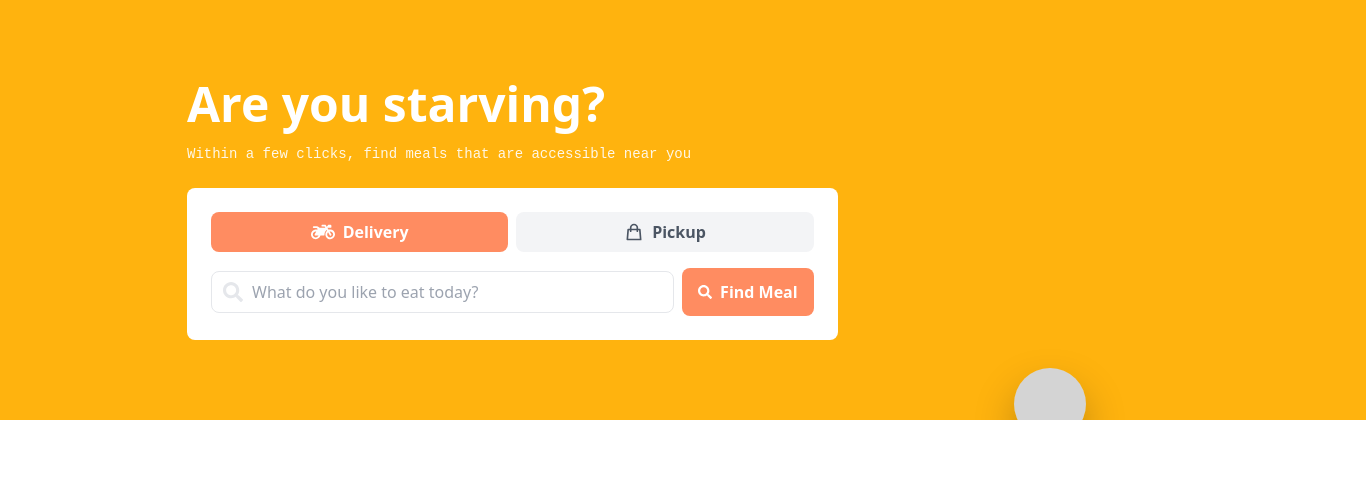
Test: Hero component › search interaction shows matching result
Type "pancake" into the field with placeholder "What do you like to eat today?" at coordinates (443, 292), box [211,271,674,313]
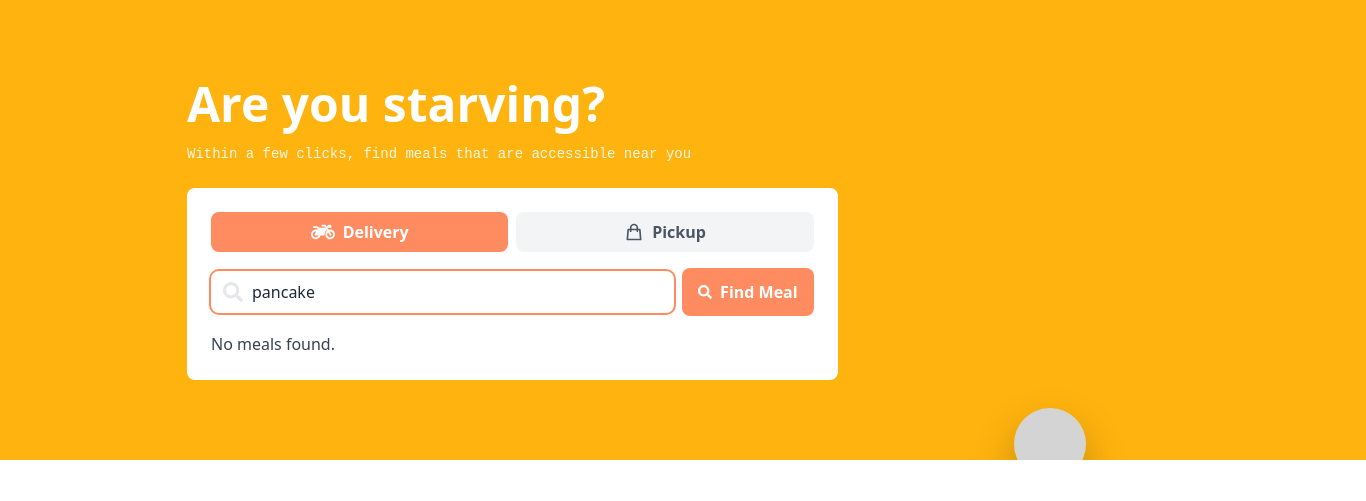
Click the button "Find Meal" at coordinates (748, 292), box [682,268,814,316]
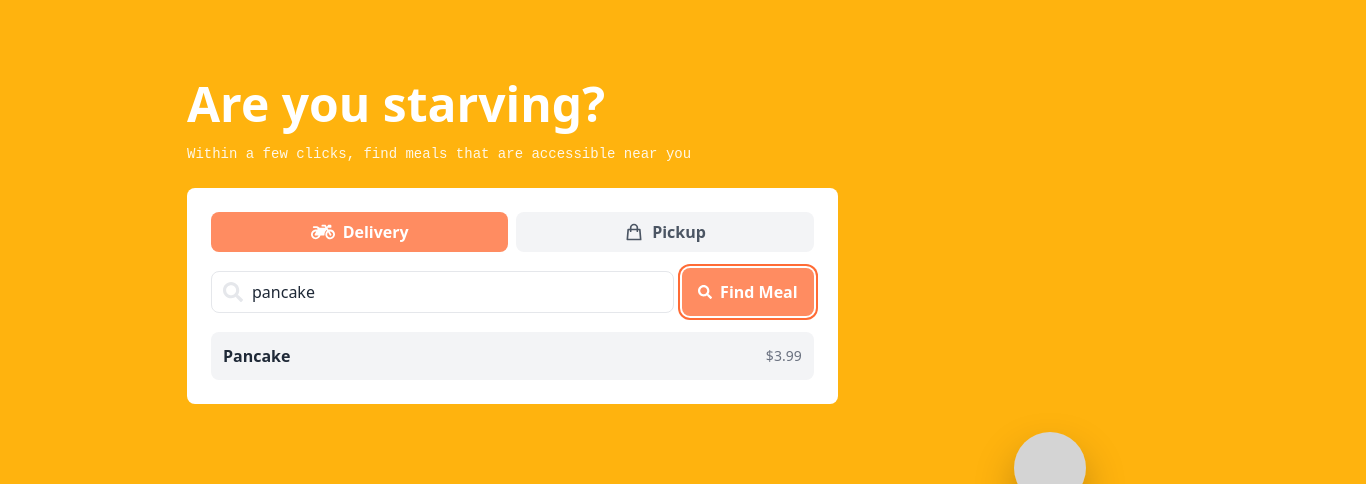
Now the text "Pancake" is shown, box [223,344,290,368]
Now the text "$3.99" is shown, box [766,346,802,366]
